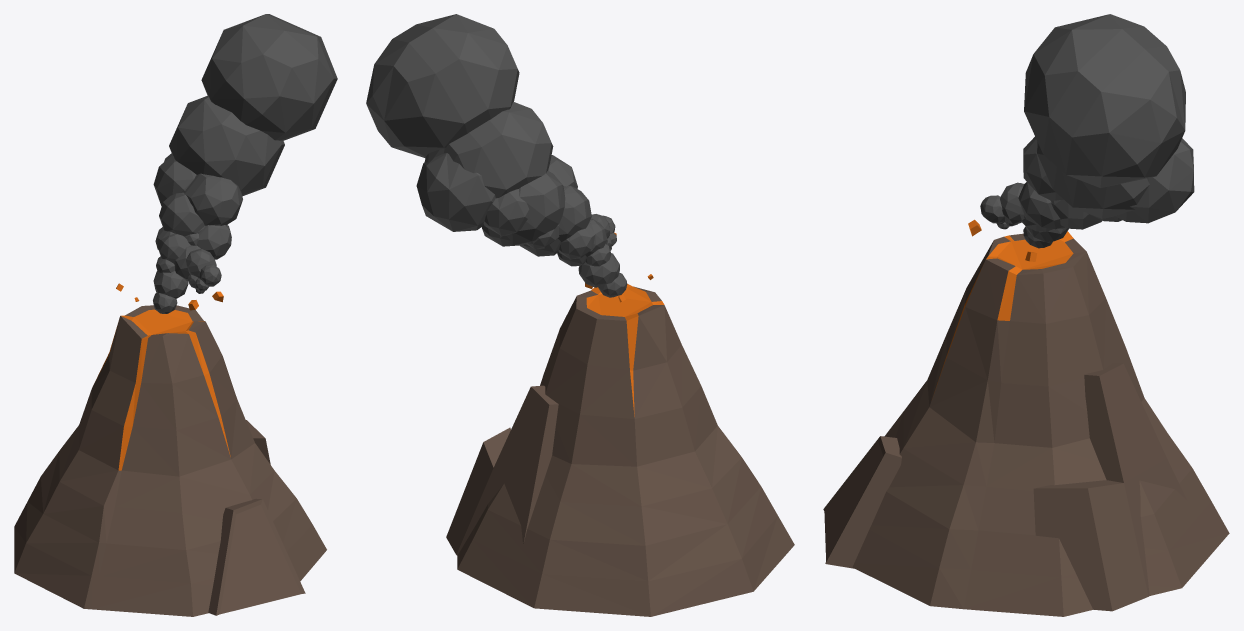
File: vulcano_01.fbx
3 views of the same model, side by side, from view 1: azimuth 30°, elevation 25°; view 2: azimuth 150°, elevation 25°; view 3: azimuth 270°, elevation 25° (orthographic). The views are drawn at different scales.
Visible parts, largest first — view 1: vulcano_01.001, smoke_01; view 2: vulcano_01.001, smoke_01; view 3: vulcano_01.001, smoke_01.
Boxes of the visible parts, left/top/right/bottom form: vulcano_01.001: left=14, top=305, right=326, bottom=616; smoke_01: left=153, top=14, right=337, bottom=313; vulcano_01.001: left=446, top=284, right=794, bottom=616; smoke_01: left=366, top=14, right=627, bottom=297; vulcano_01.001: left=823, top=231, right=1229, bottom=616; smoke_01: left=980, top=14, right=1194, bottom=248.
Size of the model in its own units: 4719 by 6497 by 4031.
